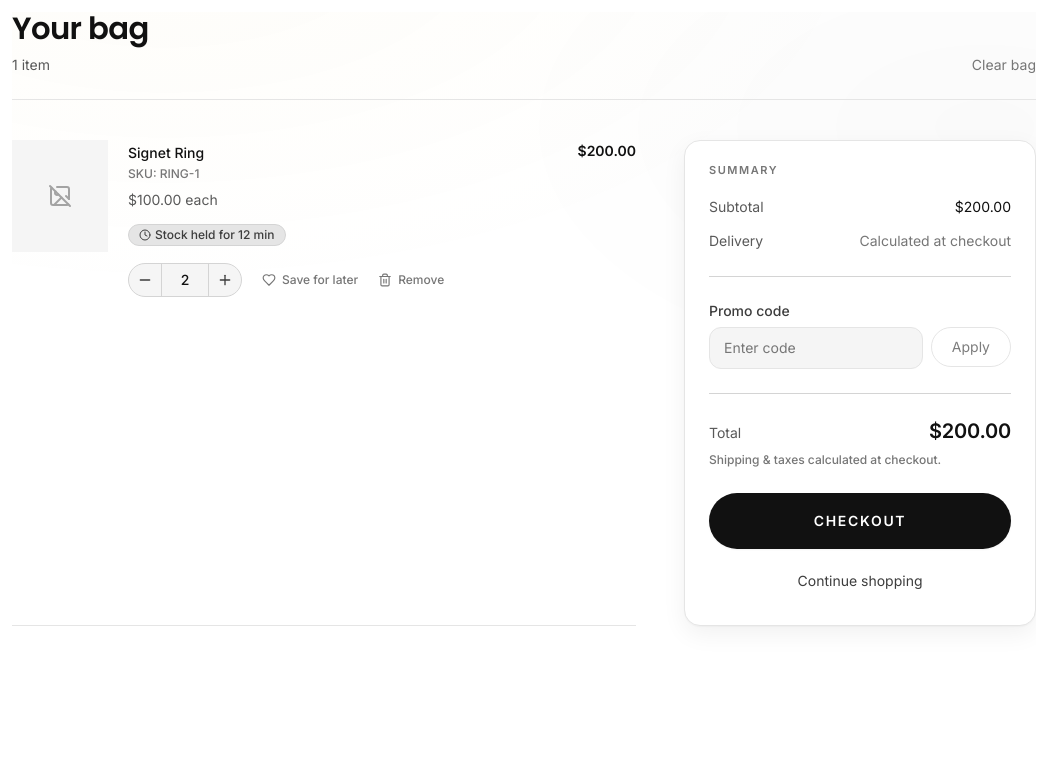
Scenario: Cart (WP-2.4) › applying a valid coupon validates it and shows the discount (WP-3.4)
Step 1. Type "SAVE10" into the field named "promo code" → {"x": 816, "y": 348}, box [709,327,923,369]
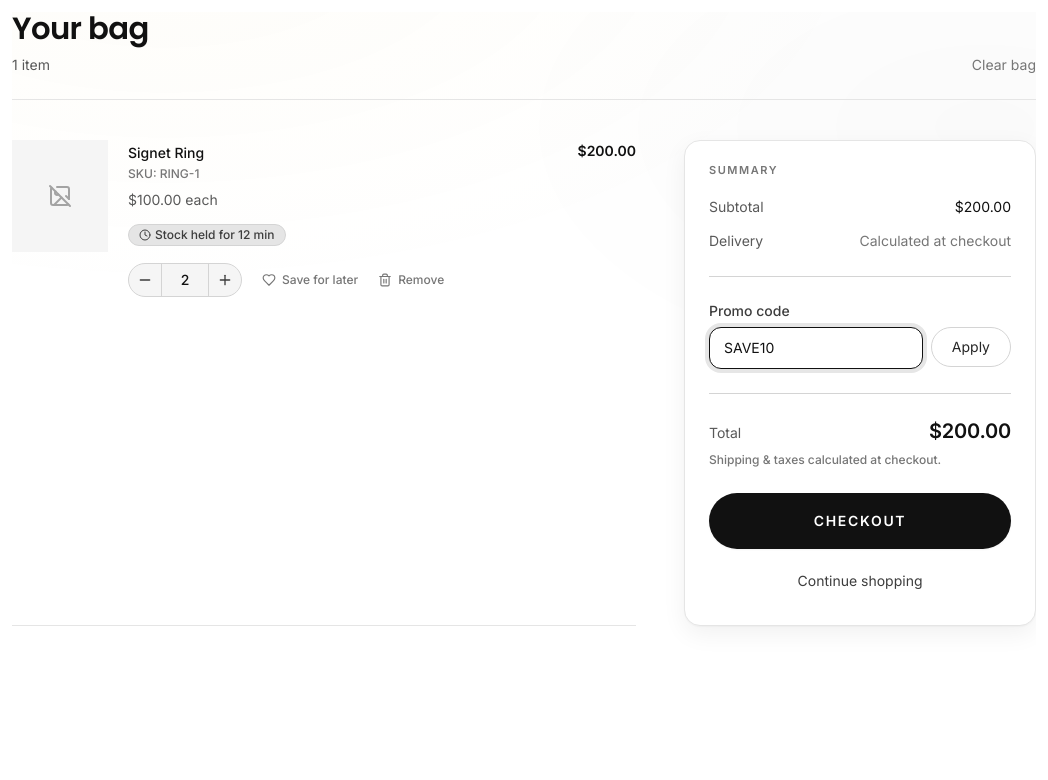
Step 2. Click the button "Apply" → {"x": 971, "y": 347}, box [931,327,1011,367]
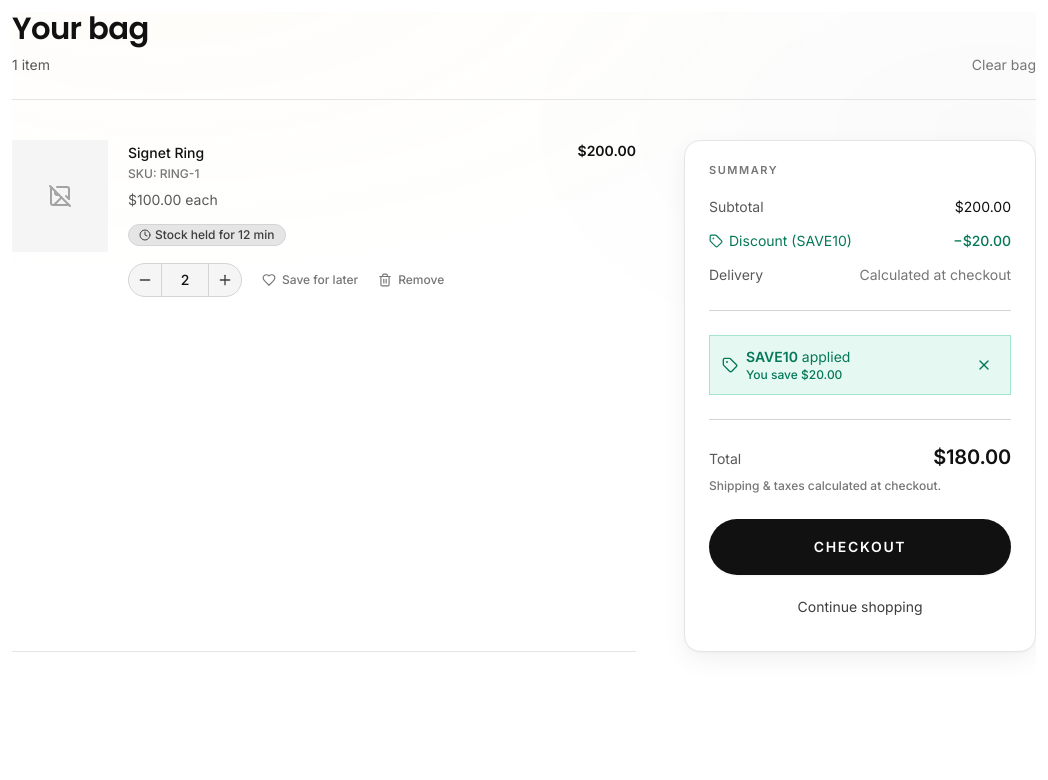
expect the text "Discount (SAVE10)" is shown: met, box [709,230,852,252]
expect the text "−$20.00" is shown: met, box [953,230,1011,252]
expect the button named "remove coupon save10" is shown: met, box [970,351,998,379]
